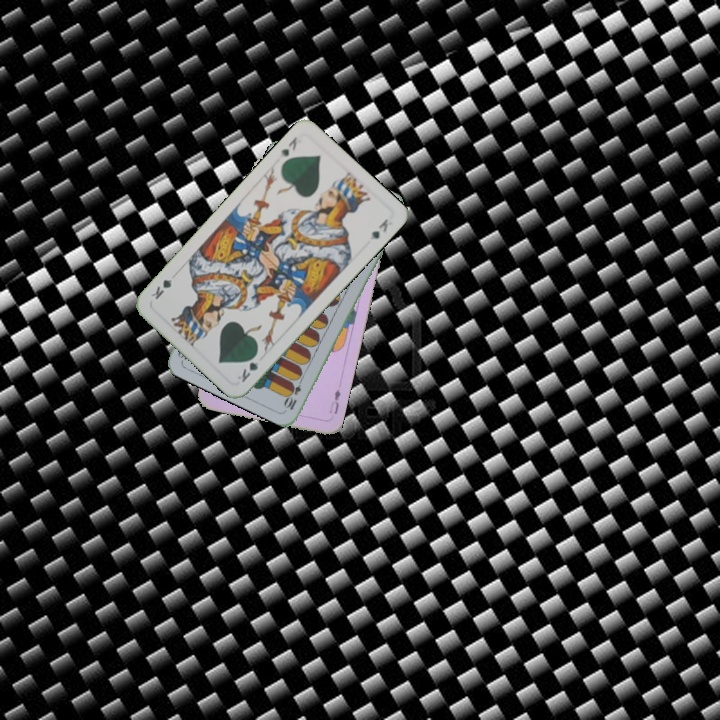E10: (282, 373, 306, 413)
EU: (325, 384, 343, 416)
GK: (233, 349, 261, 385), (276, 132, 300, 159)
